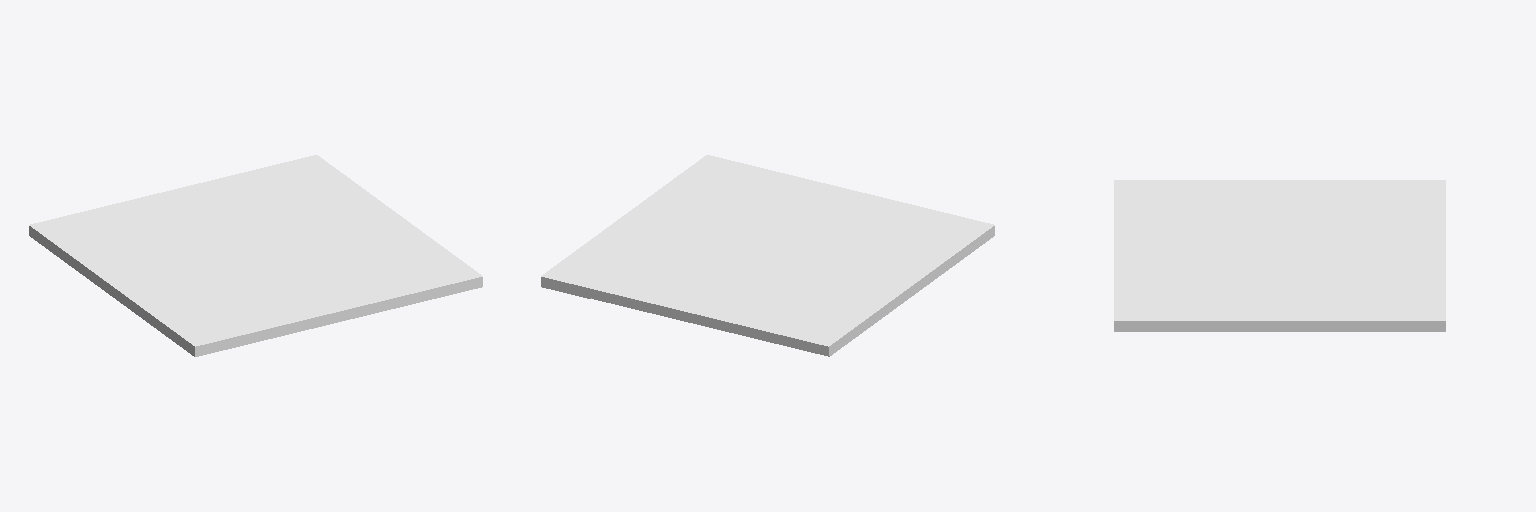
The model's file is lemongrass.obj.
The picture shows the model from 3 angles: view 1: azimuth 30°, elevation 25°; view 2: azimuth 150°, elevation 25°; view 3: azimuth 270°, elevation 25°; orthographic projection.
Visible parts, largest first — view 1: object 1; view 2: object 1; view 3: object 1.
Boxes of the visible parts, x1,y1,x2,y2 form: object 1: [29, 155, 482, 356]; object 1: [541, 155, 994, 356]; object 1: [1114, 180, 1445, 331].
Size of the model in its own units: 25.6 by 0.9 by 25.6.